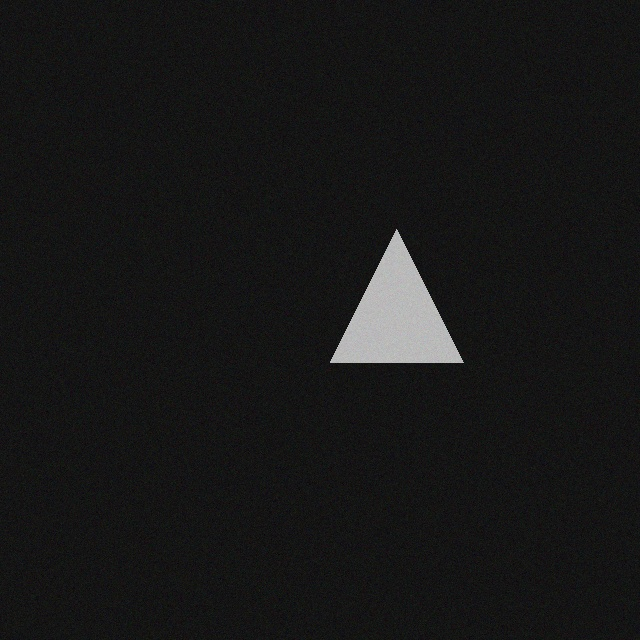triangle: (332, 233, 465, 366)
